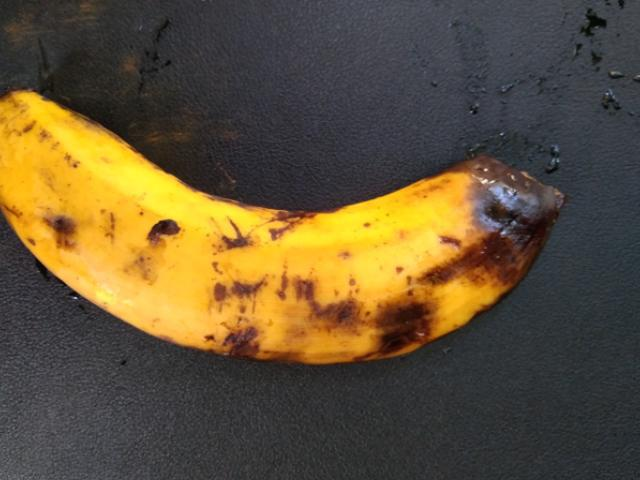overripe: (5, 71, 393, 403)
rotten: (270, 145, 572, 383)
